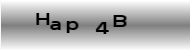4: (95, 20, 109, 34)
B: (113, 13, 127, 27)
H: (35, 12, 49, 25)
a: (50, 20, 61, 30)
p: (65, 19, 80, 33)
